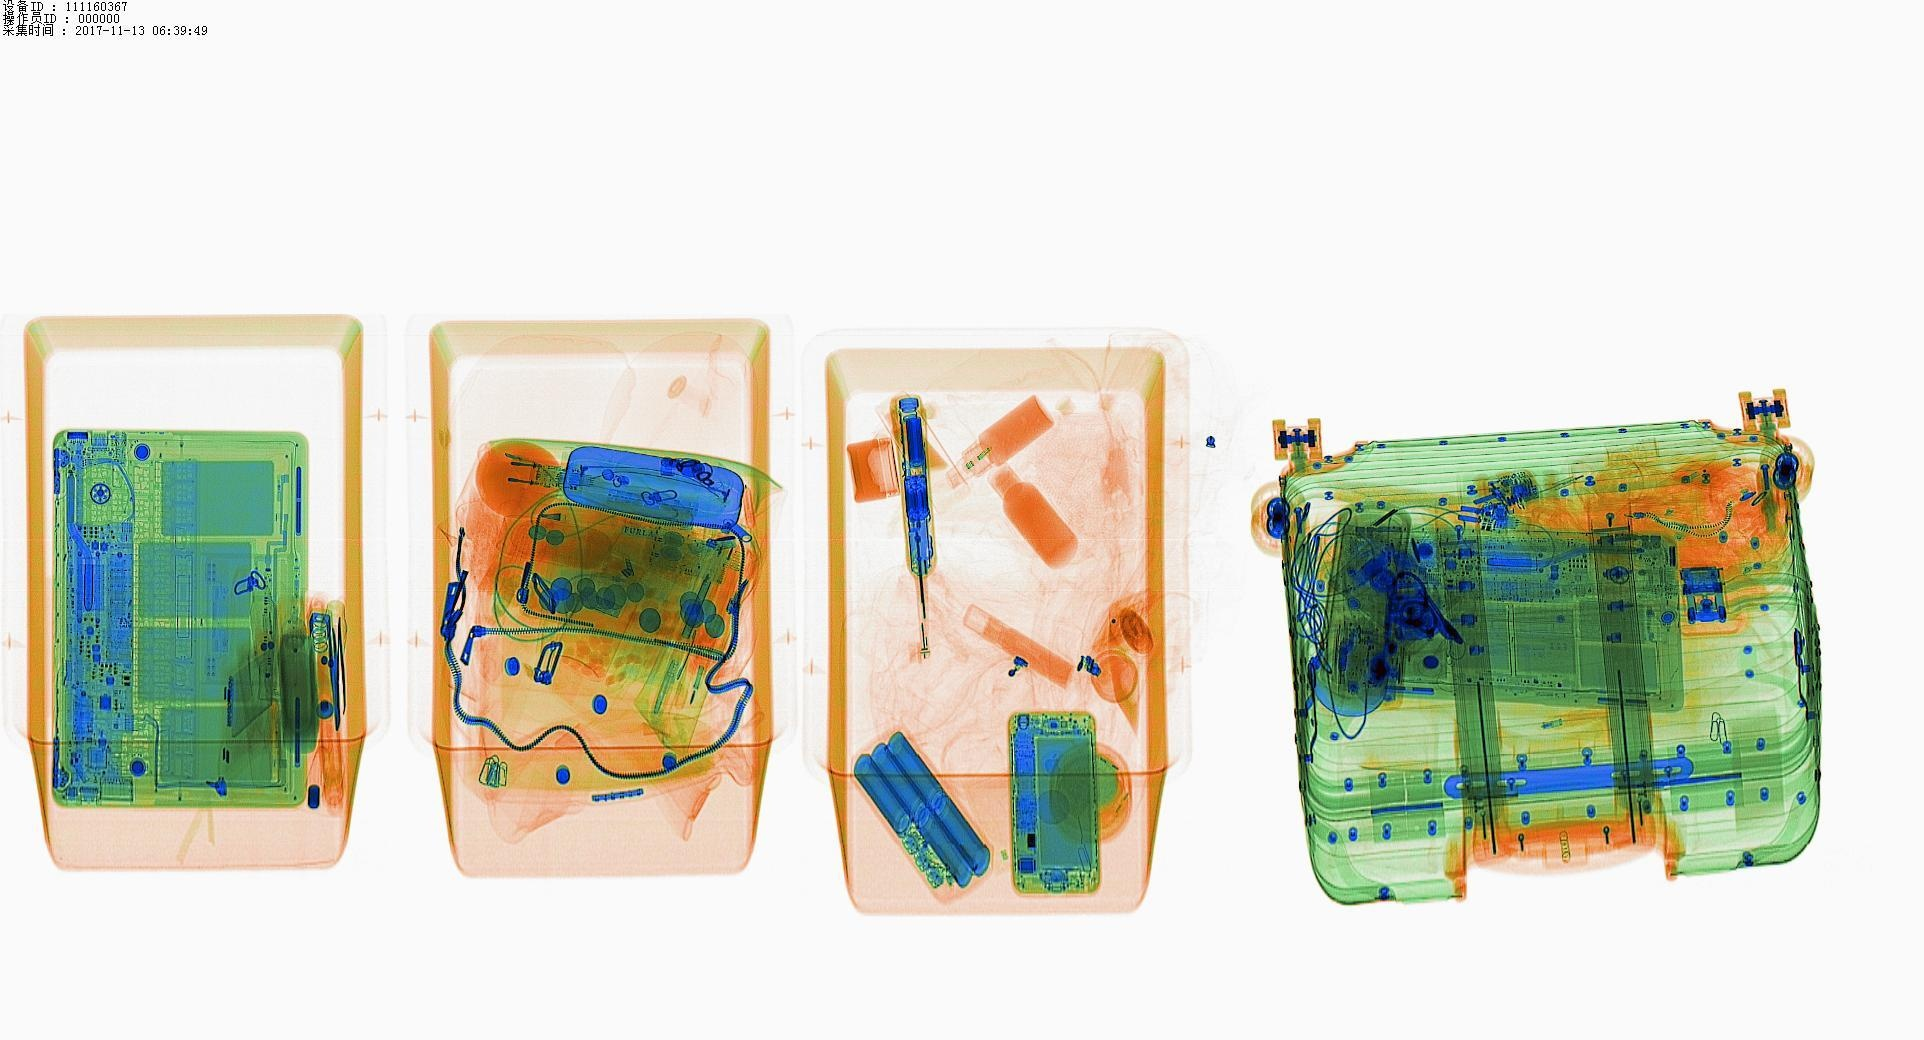core: (838, 736, 986, 888)
